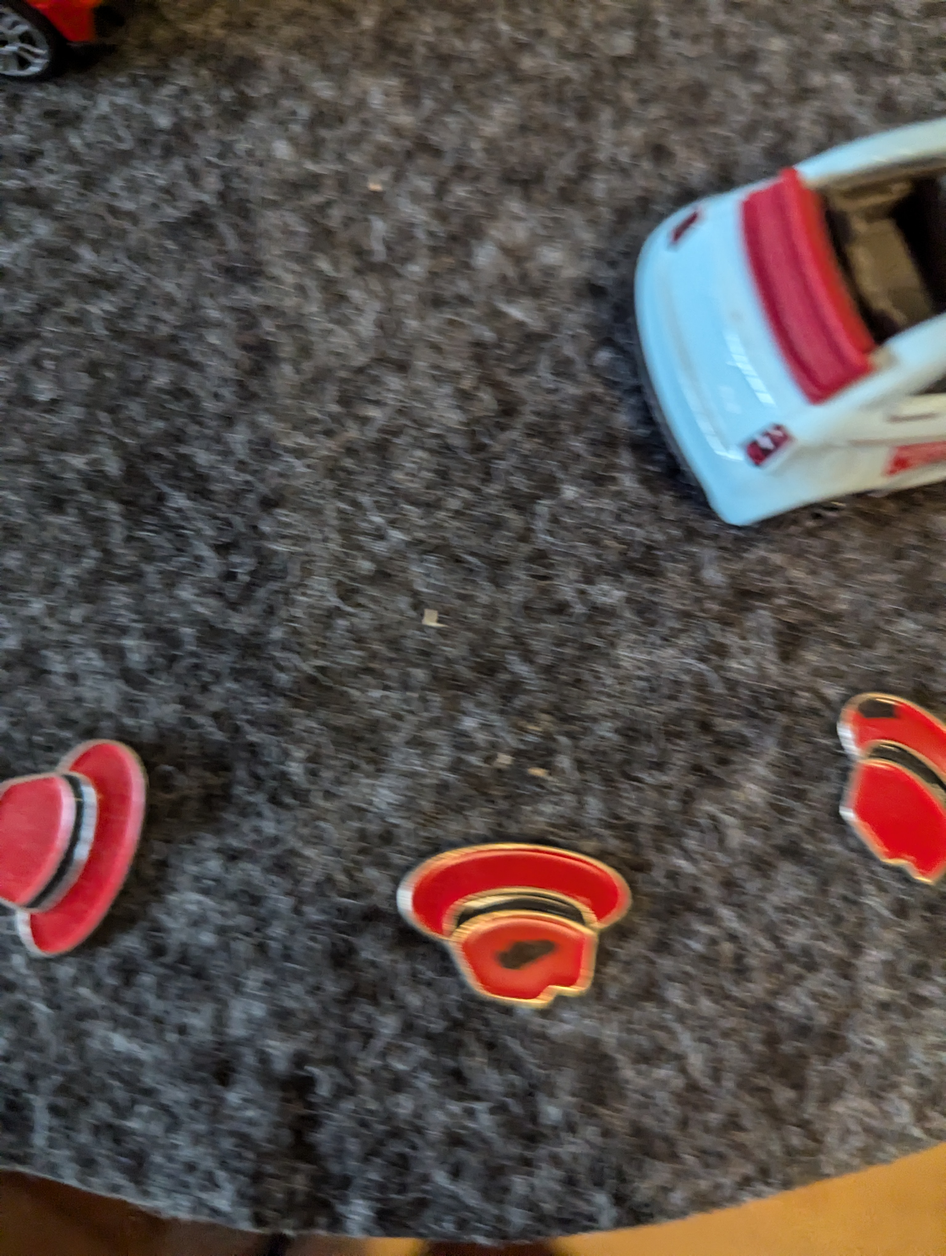Car: (536, 84, 946, 563)
Red-Hat: (364, 829, 649, 1028), (0, 696, 178, 983), (783, 642, 946, 915)
Scratch: (486, 927, 575, 982), (844, 670, 908, 739)
